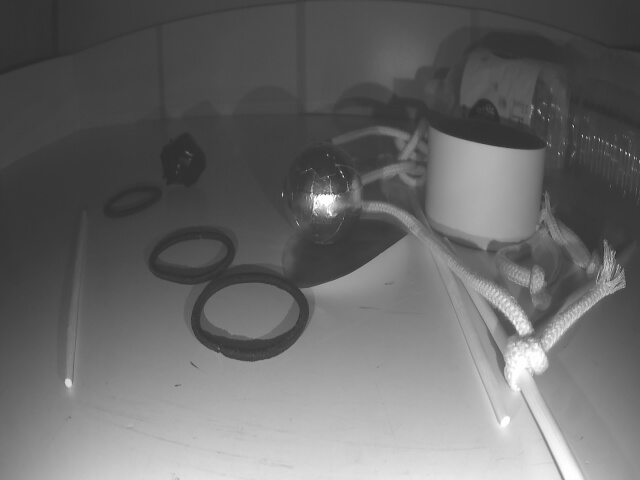Dead: (162, 138, 208, 189)
Live: (275, 140, 364, 246)
